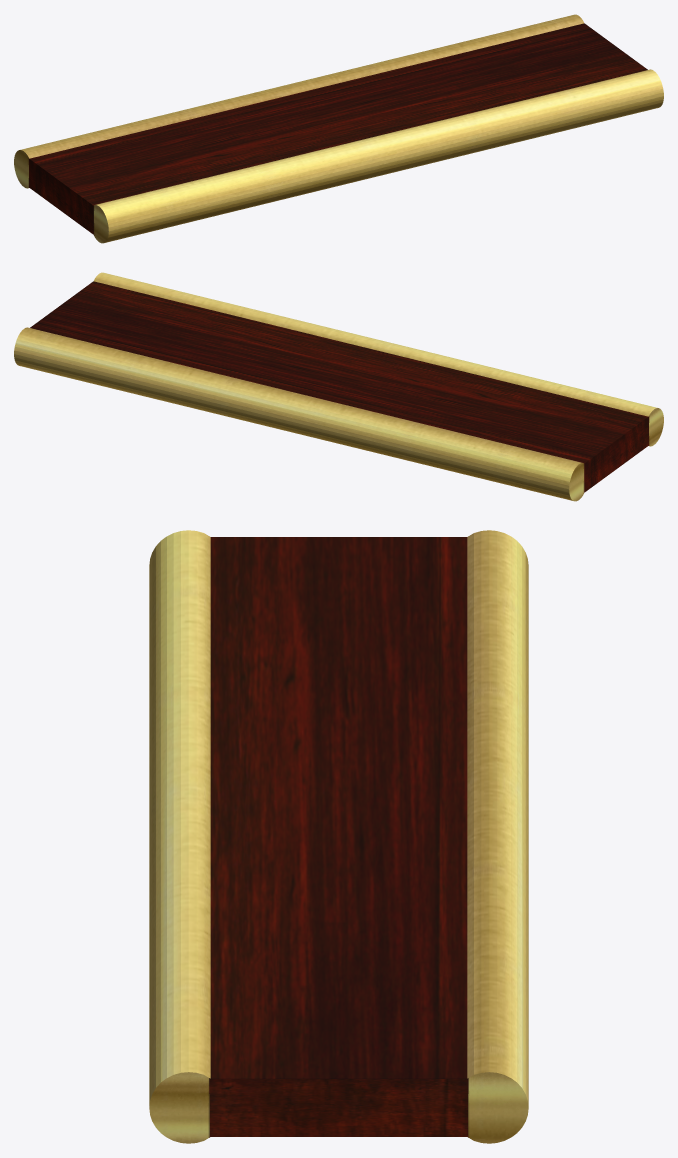
File: Floor.fbx
3 views of the same model, one above another, from view 1: azimuth 30°, elevation 25°; view 2: azimuth 150°, elevation 25°; view 3: azimuth 270°, elevation 25° (orthographic). The views are drawn at different scales.
Visible parts, largest first — view 1: Cube; view 2: Cube; view 3: Cube.
Boxes of the visible parts, x1,y1,x2,y2 form: Cube: [14, 14, 663, 243]; Cube: [14, 272, 663, 501]; Cube: [149, 530, 528, 1143].
Size of the model in its own units: 300 by 18.48 by 88.78.
